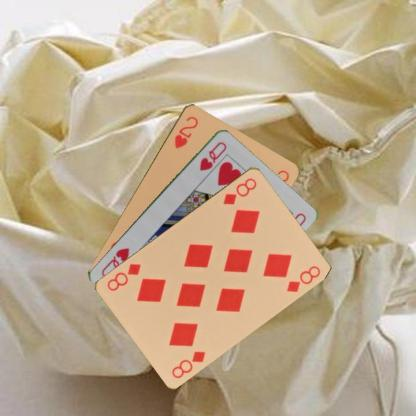2h: (172, 113, 199, 150)
8d: (220, 174, 258, 206), (169, 348, 207, 379)
Qh: (197, 139, 228, 172)
